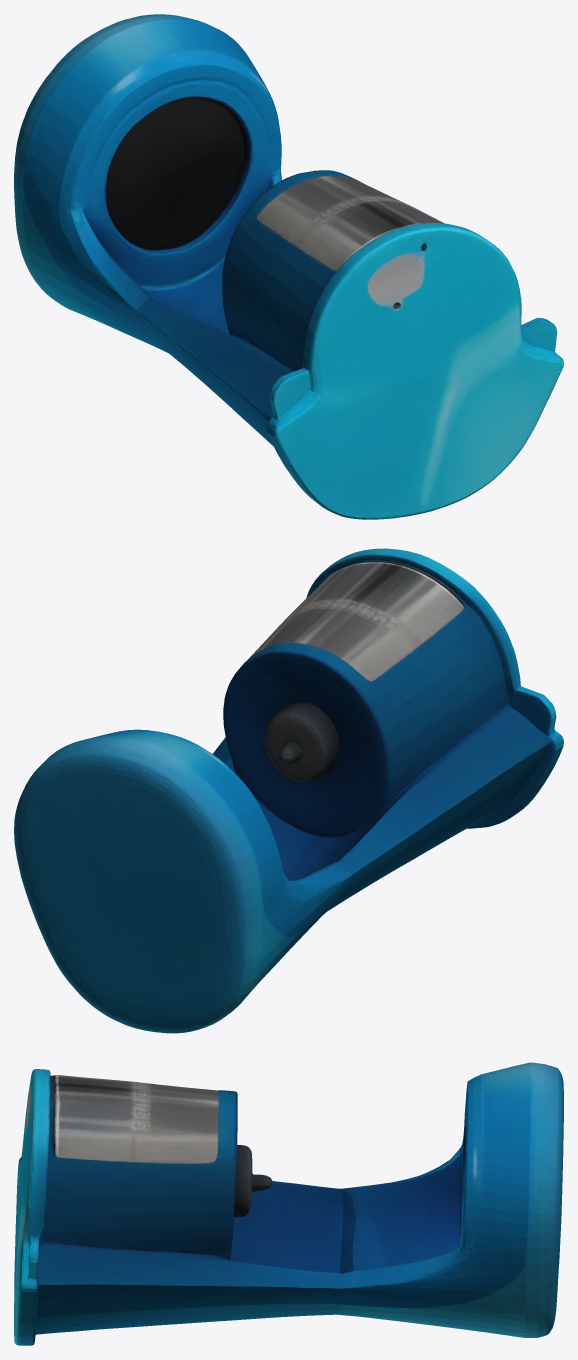
3 renders of one model, top to bottom at view 1: azimuth 30°, elevation 25°; view 2: azimuth 150°, elevation 25°; view 3: azimuth 270°, elevation 25°, orthographic. The views are drawn at different scales.
Parts seen in each view (by area): view 1: geometry_0; view 2: geometry_0; view 3: geometry_0.
Part boxes in pixels (x1,y1,x2,y2): geometry_0: (14, 14, 563, 519); geometry_0: (14, 548, 563, 1033); geometry_0: (14, 1062, 563, 1345).
Bounding box in the file's own units: 0.2013 × 0.1894 × 0.3641.
1 material, 1 textured.
